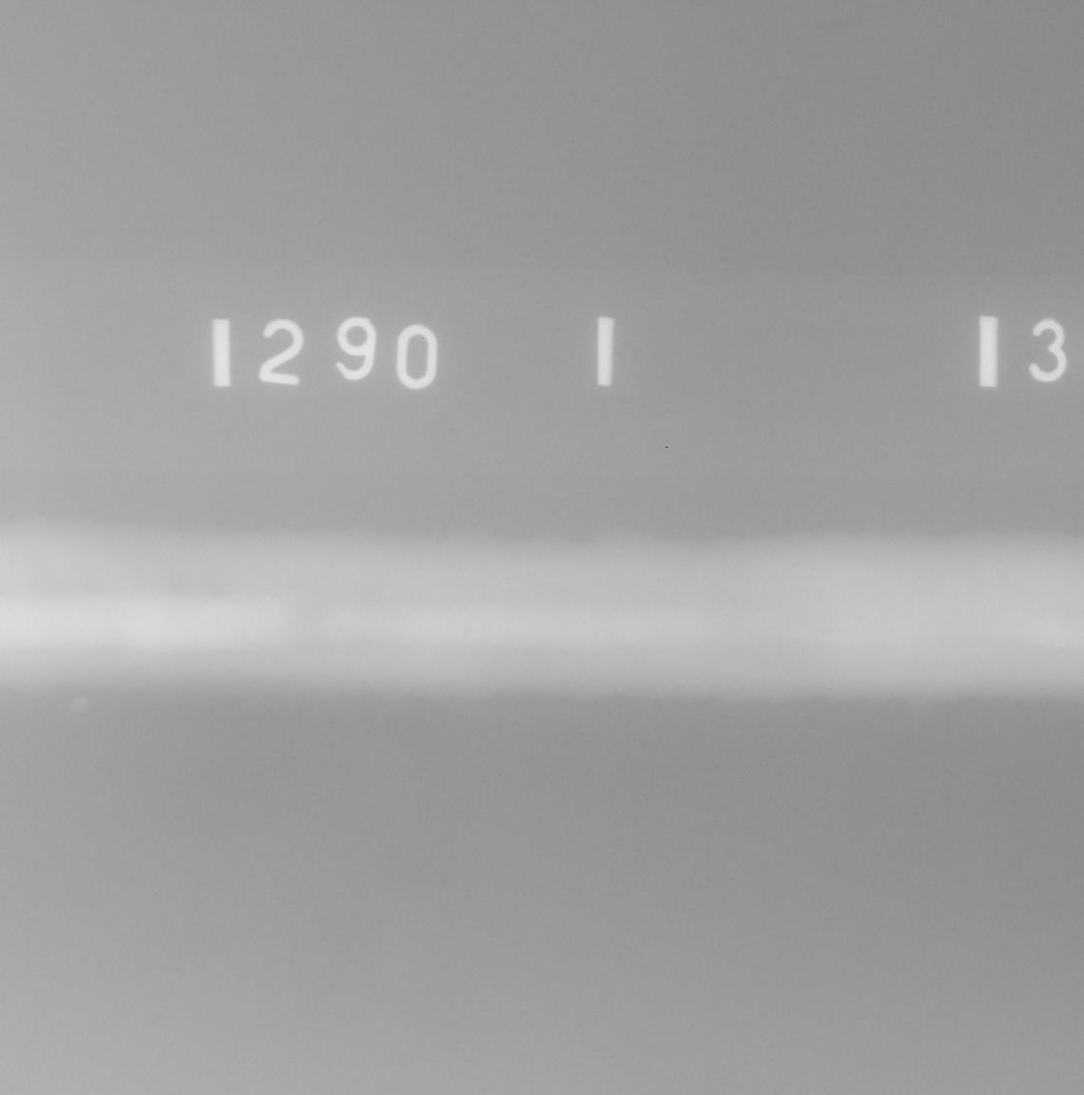Pore/Porosity: (464, 630, 470, 633), (799, 622, 804, 625), (117, 633, 121, 636)
